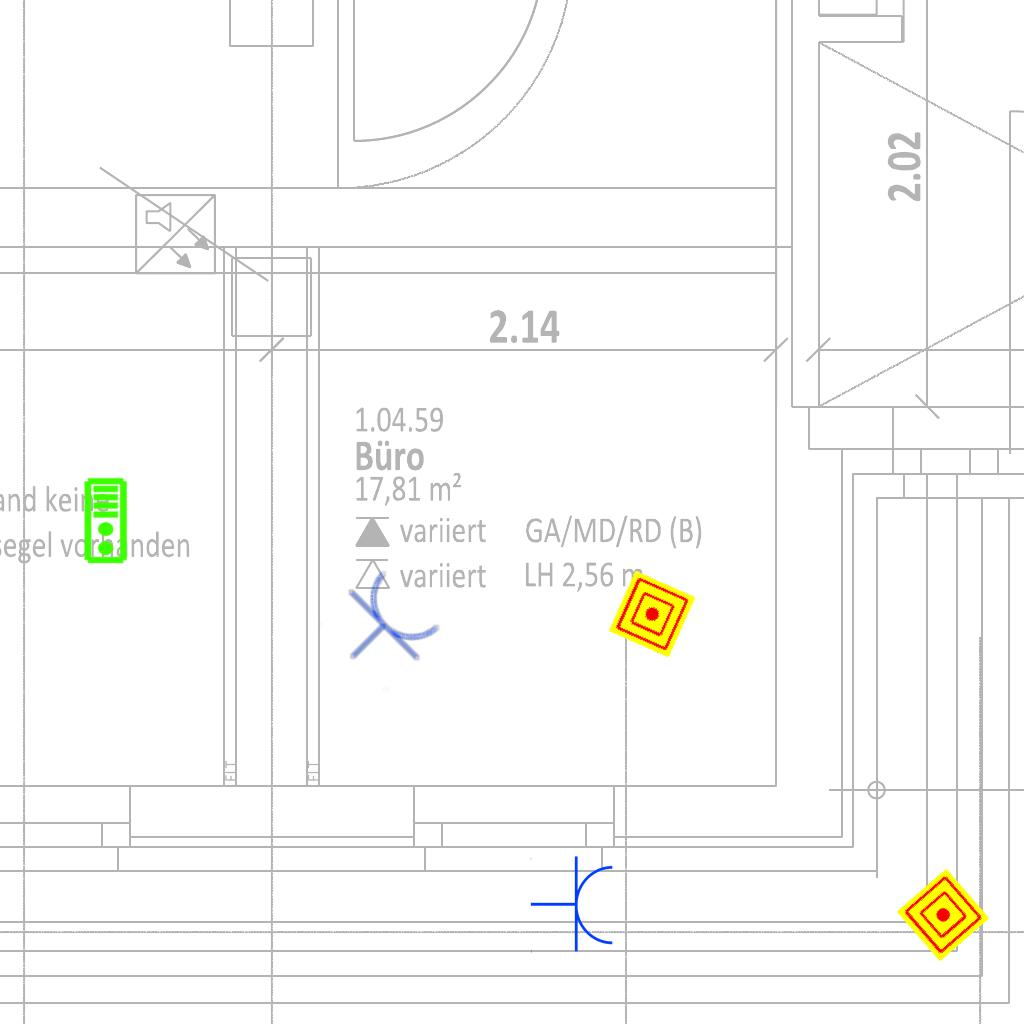Gegensprechanlage_mit_Video: (83, 477, 130, 565)
NAM-Nichtautomatischer_Melder: (896, 868, 990, 962), (608, 570, 696, 658)
Schukosteckdose_einfach: (316, 561, 450, 694), (530, 855, 617, 955)
